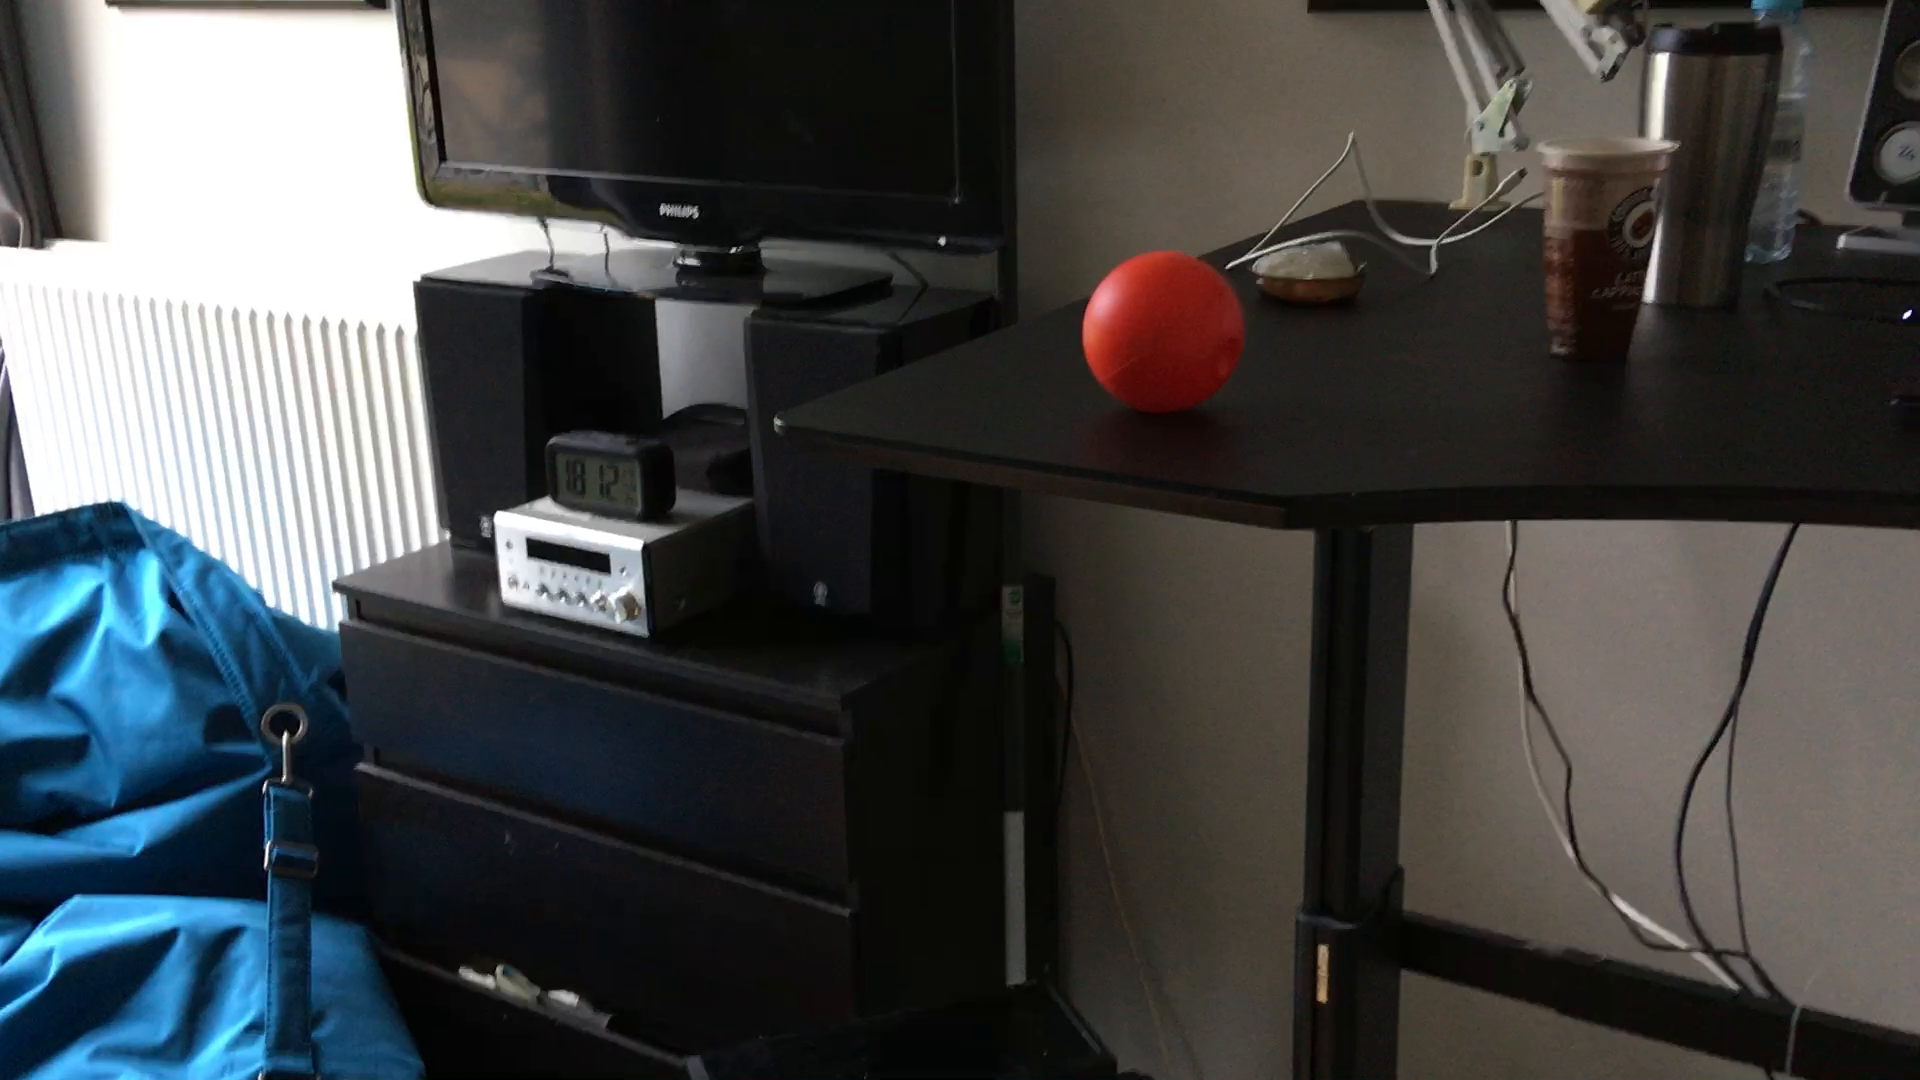Ball: (1083, 249, 1250, 411)
